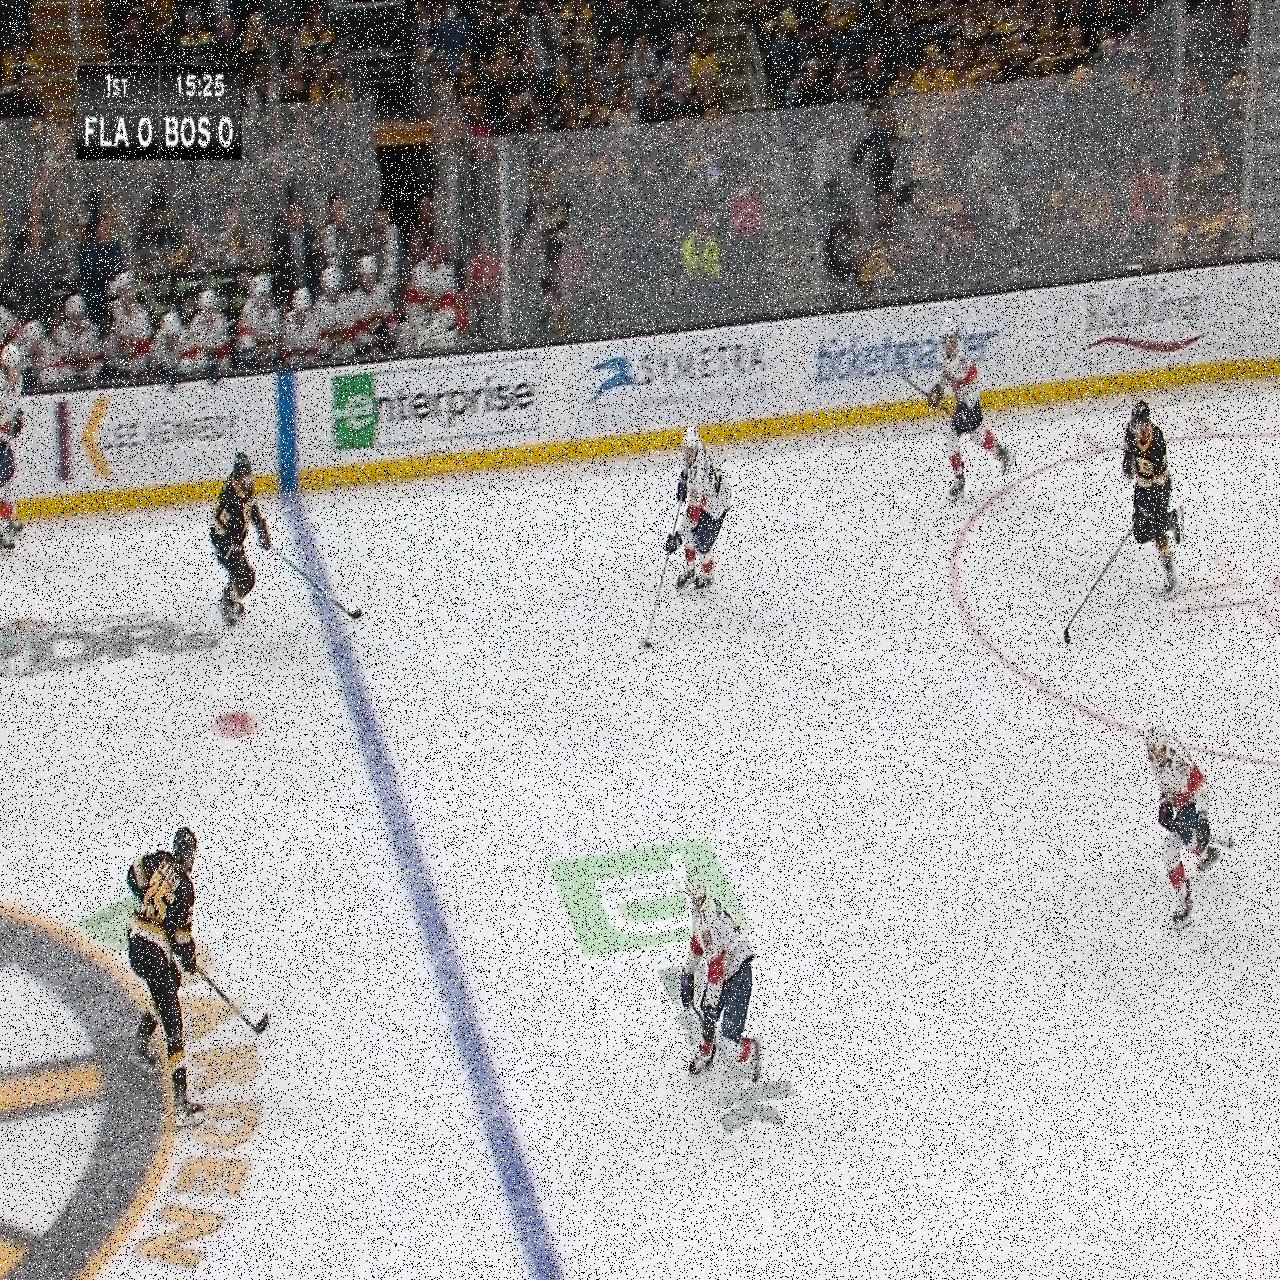Ad: (547, 837, 799, 1151), (332, 362, 546, 462), (54, 389, 248, 489), (1, 599, 223, 676), (817, 318, 1020, 402), (590, 327, 778, 417), (1083, 282, 1205, 358)
